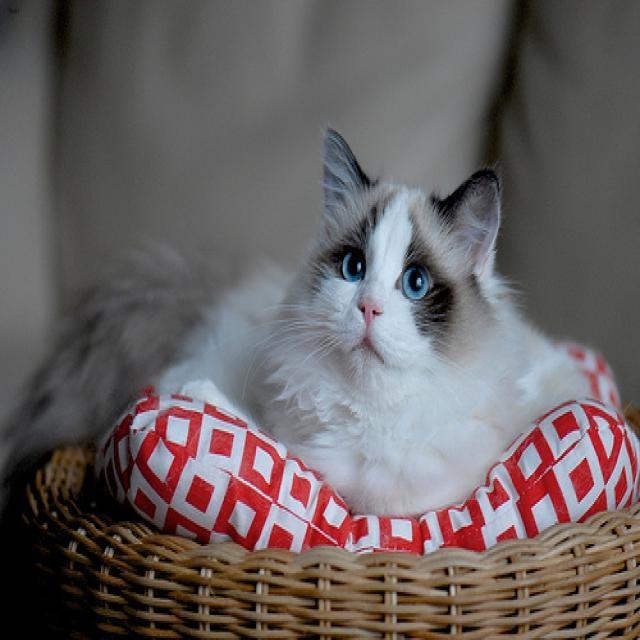Ragdoll: (296, 126, 512, 410)
